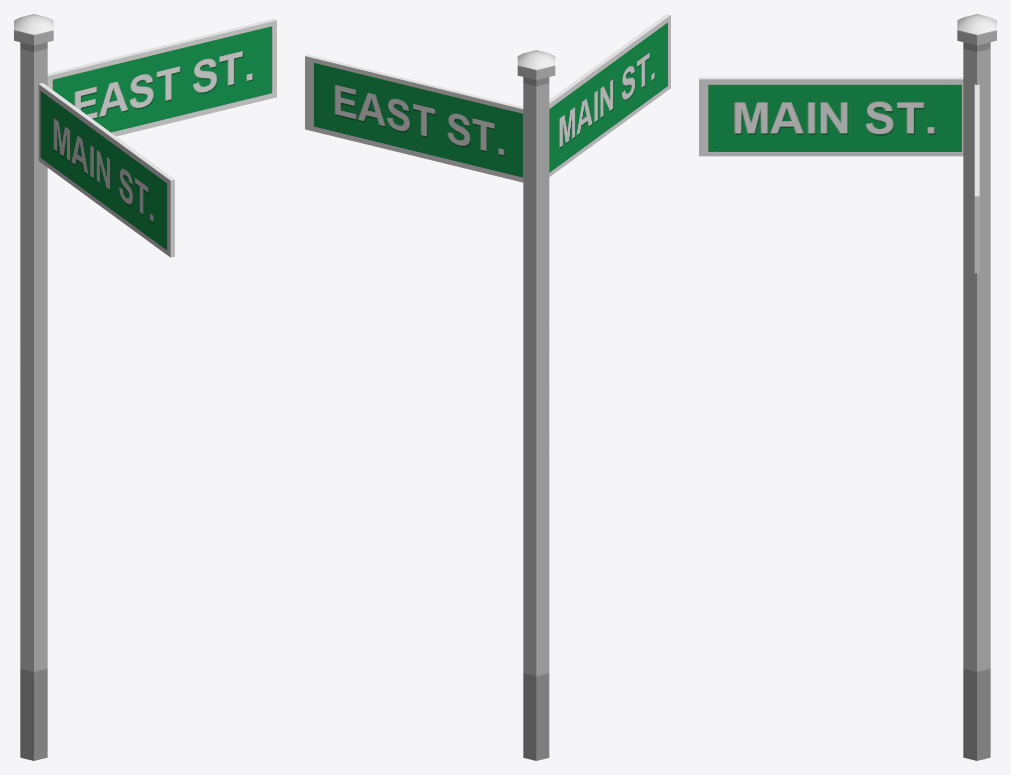
Rendered from city_sign_post.fbx.
The picture shows the model from 3 angles, left to right: view 1: azimuth 30°, elevation 25°; view 2: azimuth 150°, elevation 25°; view 3: azimuth 270°, elevation 25°; orthographic projection. The views are drawn at different scales.
Visible parts, largest first — view 1: city:polySurface312; view 2: city:polySurface312; view 3: city:polySurface312.
Boxes of the visible parts, x1,y1,x2,y2 form: city:polySurface312: [14, 14, 276, 760]; city:polySurface312: [305, 14, 670, 760]; city:polySurface312: [699, 14, 996, 760].
Bounding box in the file's own units: 1.08 × 2.92 × 1.07.
